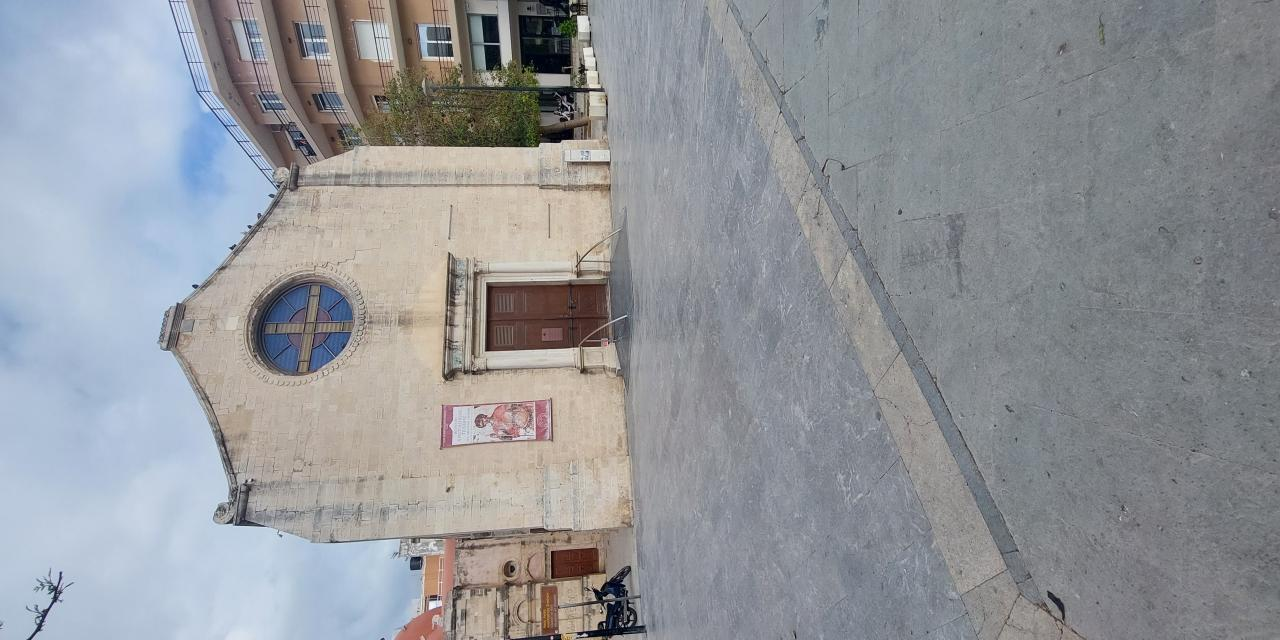Agia Aikaterini: (149, 107, 640, 555)
